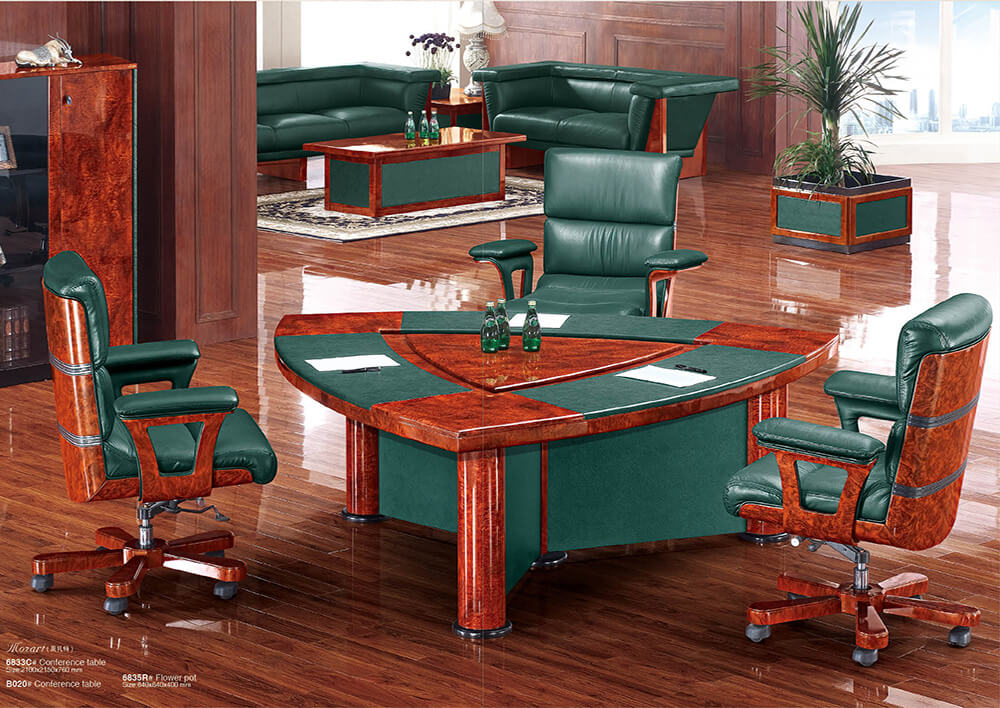conference_table: (274, 308, 841, 638)
